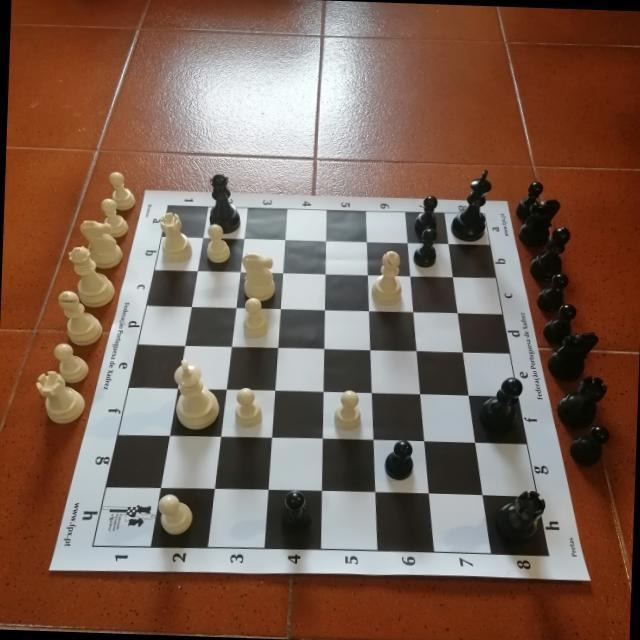black-bishop: (476, 375, 523, 437), (529, 224, 571, 283)
black-king: (449, 167, 493, 242)
black-knight: (545, 329, 599, 383), (515, 197, 560, 249)
black-pawn: (568, 424, 610, 468), (278, 489, 314, 537), (542, 302, 578, 346), (535, 271, 569, 313), (383, 438, 415, 482), (515, 179, 545, 221), (411, 227, 438, 269), (413, 193, 438, 234)
black-queen: (206, 172, 242, 236)
black-rook: (494, 487, 546, 544), (556, 373, 608, 430)
white-bishop: (55, 289, 105, 347), (370, 249, 404, 307)
white-king: (171, 357, 221, 431)
white-knight: (77, 218, 125, 270), (239, 252, 277, 304)
white-pawn: (155, 493, 194, 535), (51, 342, 90, 384), (332, 388, 363, 432), (232, 387, 263, 429), (98, 197, 129, 239), (106, 169, 137, 211), (241, 297, 270, 339), (204, 222, 232, 263)
white-queen: (66, 243, 118, 308)
white-rook: (33, 369, 86, 426), (157, 211, 195, 265)
